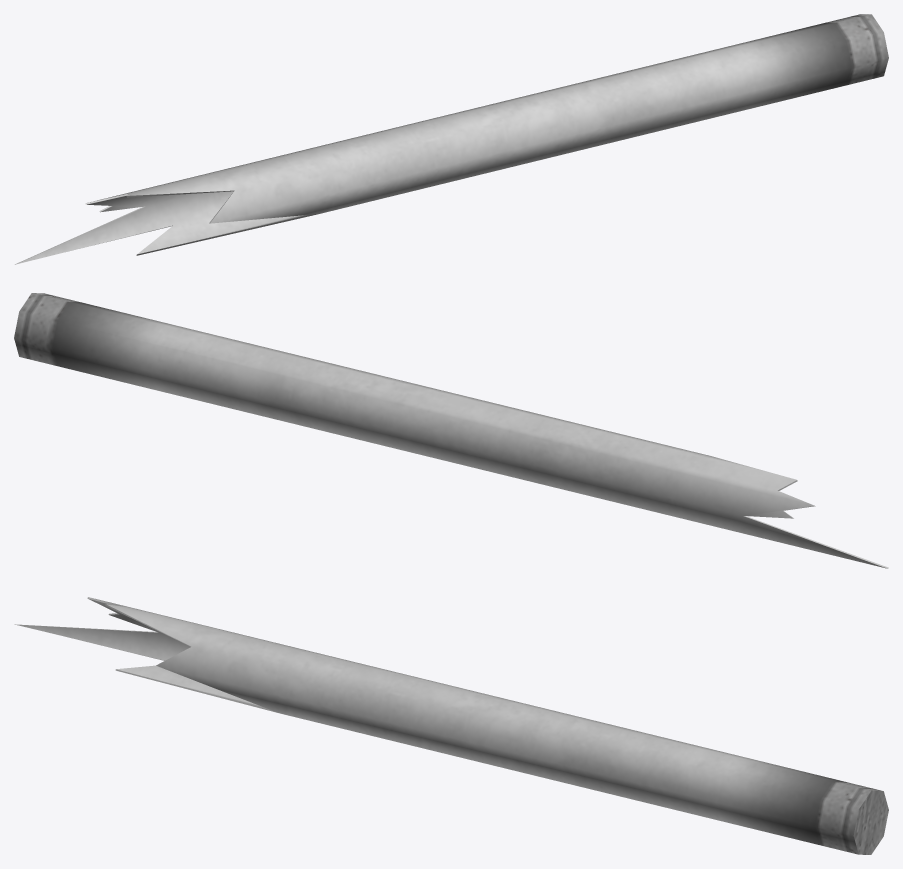
Rendered from LampFluoBulbBrokenB.fbx.
The picture shows the model from 3 angles, top to bottom: view 1: azimuth 30°, elevation 25°; view 2: azimuth 150°, elevation 25°; view 3: azimuth 330°, elevation 25°; orthographic projection. The views are drawn at different scales.
Visible parts, largest first — view 1: LampFluoBulbBrokenB; view 2: LampFluoBulbBrokenB; view 3: LampFluoBulbBrokenB.
Part boxes in pixels (x1,y1,x2,y2): LampFluoBulbBrokenB: (15,14,888,264); LampFluoBulbBrokenB: (14,293,888,568); LampFluoBulbBrokenB: (14,597,888,854).
Bounding box in the file's own units: 56.79 × 4 × 4.
